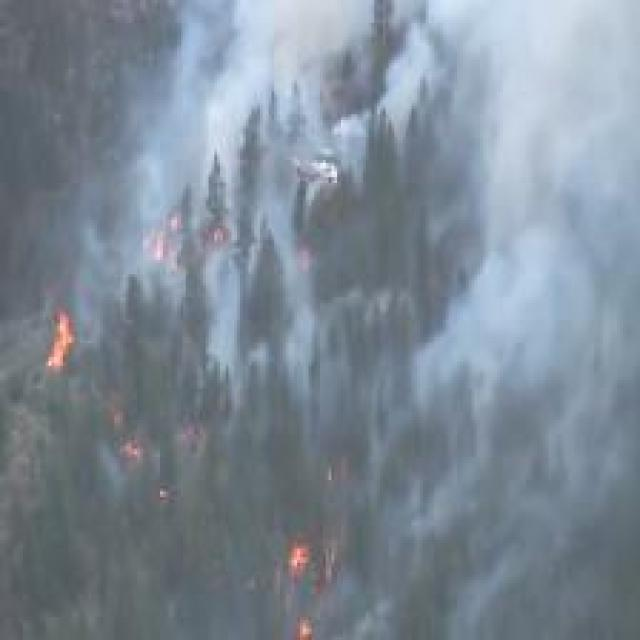fire: (123, 179, 318, 289), (257, 525, 337, 634), (39, 302, 86, 378), (104, 429, 148, 467)
smoke: (428, 1, 626, 419), (181, 10, 341, 126)
